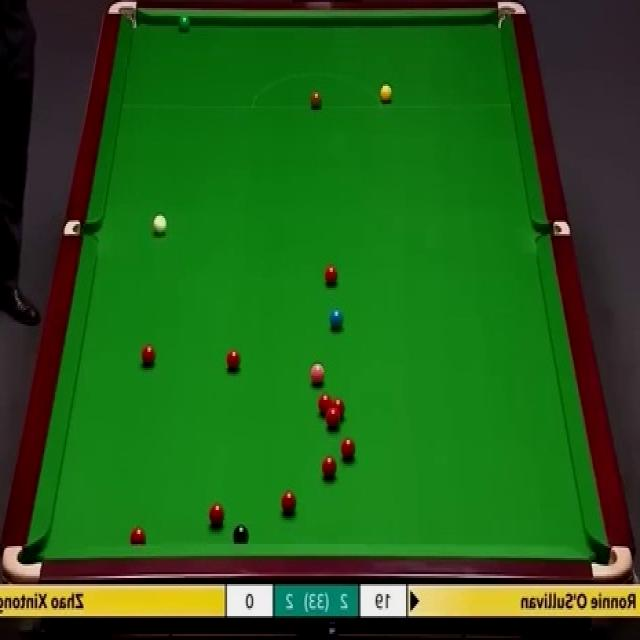black-ball: (232, 523, 248, 545)
blue-ball: (328, 308, 344, 329)
brown-ball: (310, 88, 322, 108)
green-ball: (177, 11, 190, 30)
pink-ball: (307, 362, 324, 389)
red-ball: (320, 451, 337, 480), (338, 436, 358, 460), (225, 346, 242, 373), (280, 489, 296, 517), (208, 504, 225, 530), (324, 264, 339, 290), (142, 344, 156, 369), (332, 398, 346, 422), (318, 393, 331, 418), (129, 526, 147, 543), (324, 411, 340, 430)
white-ball: (152, 215, 169, 237)
yellow-ball: (381, 86, 393, 102)
